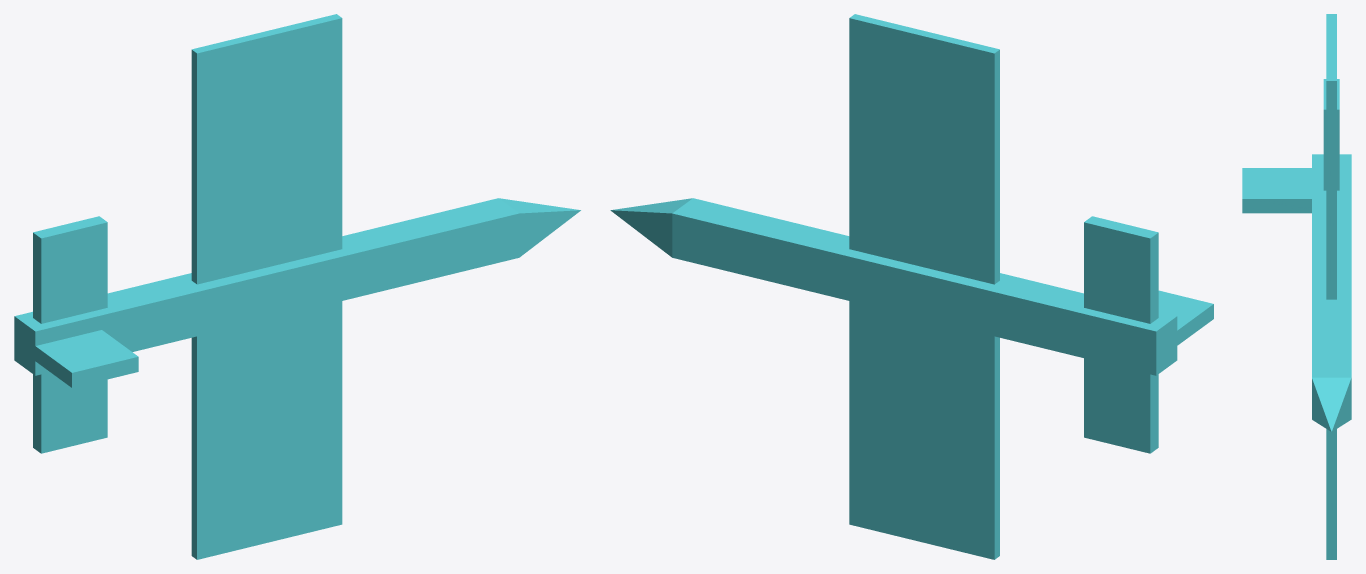
The model's file is aircraft.gltf.
The picture shows the model from 3 angles, left to right: view 1: azimuth 30°, elevation 25°; view 2: azimuth 150°, elevation 25°; view 3: azimuth 270°, elevation 25°; orthographic projection. The views are drawn at different scales.
Bounding box in the file's own units: 9.2 × 8 × 1.65.
